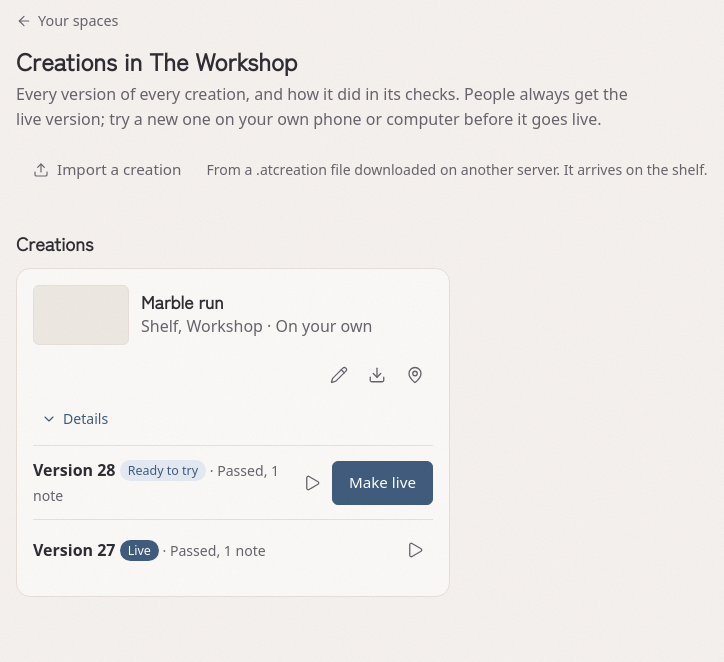
Test: a creation's versions, on the Creations page › says why when it could not go live, and offers it again
Click the button "Make live": [382, 482] box top-left (332, 460), bottom-right (433, 504)
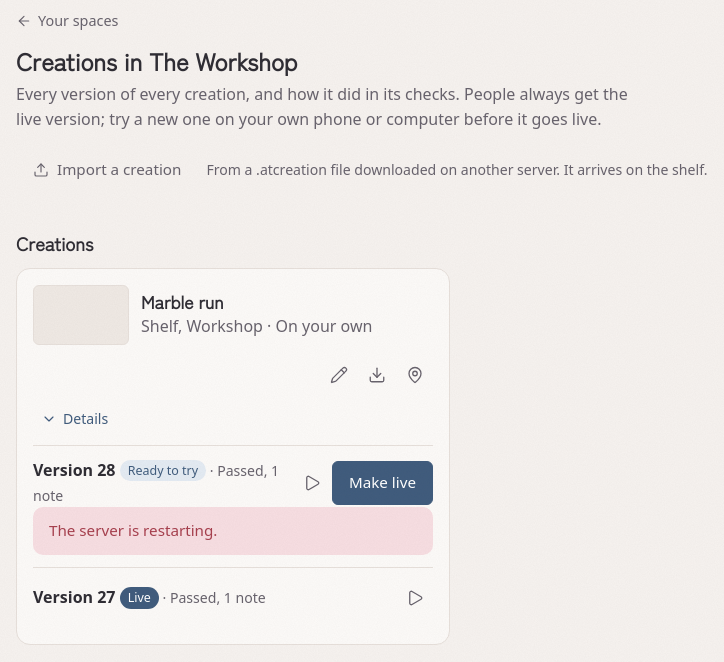
Expected: the list item with class "studio-version" shows "The server is restarting.", top-left (49, 520), bottom-right (217, 540)
